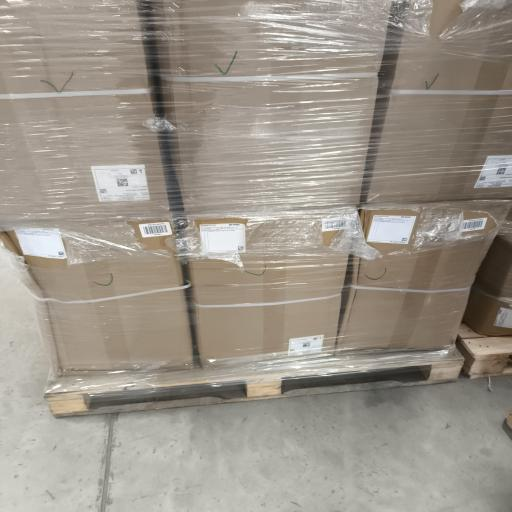pallet: (45, 348, 463, 417), (457, 324, 511, 378), (506, 412, 511, 429)
